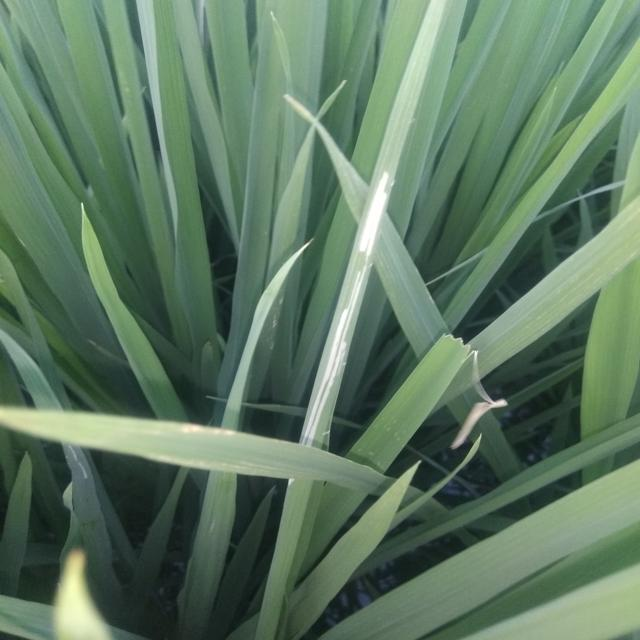brown plant hopper: (295, 303, 371, 453), (350, 160, 397, 270)
